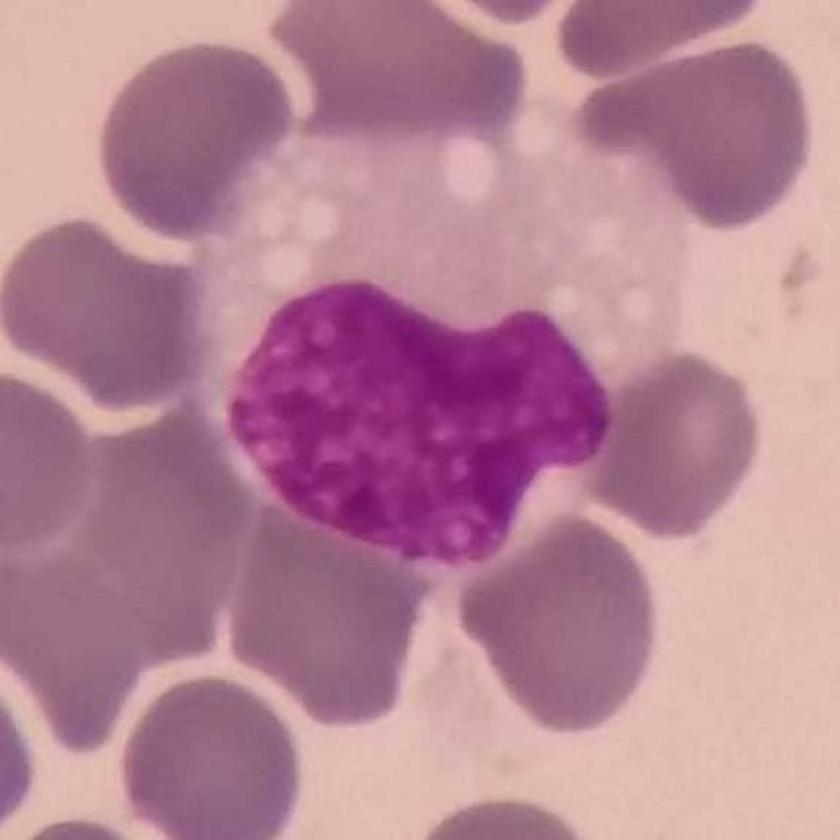monocyte: (186, 110, 712, 578)
